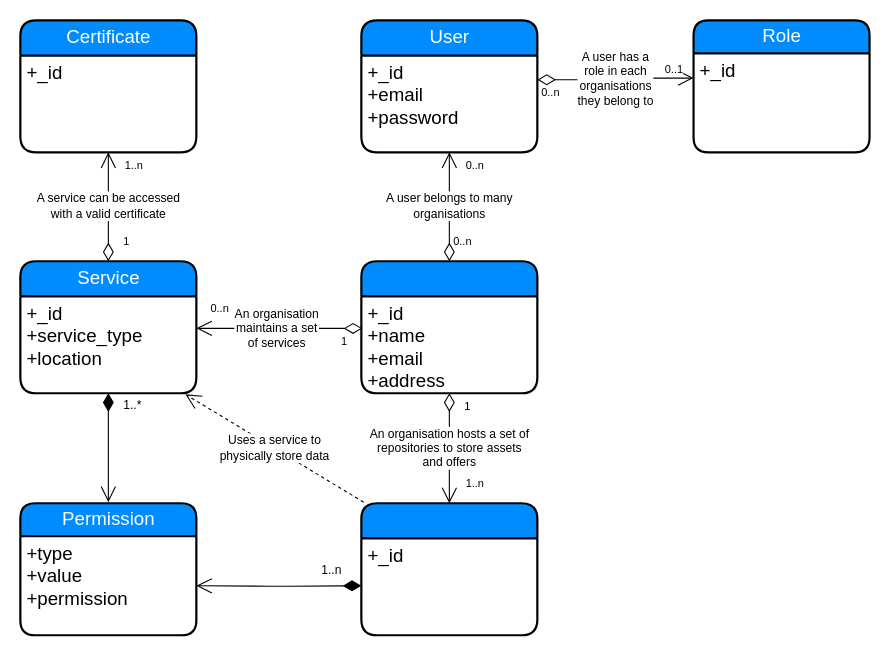
Some shapes in this 889 by 655 pixel diagram are drawn without their labels. Each missing label, with the box of its shape:
Organization: (360, 260, 538, 394)
Repository: (360, 502, 538, 636)
